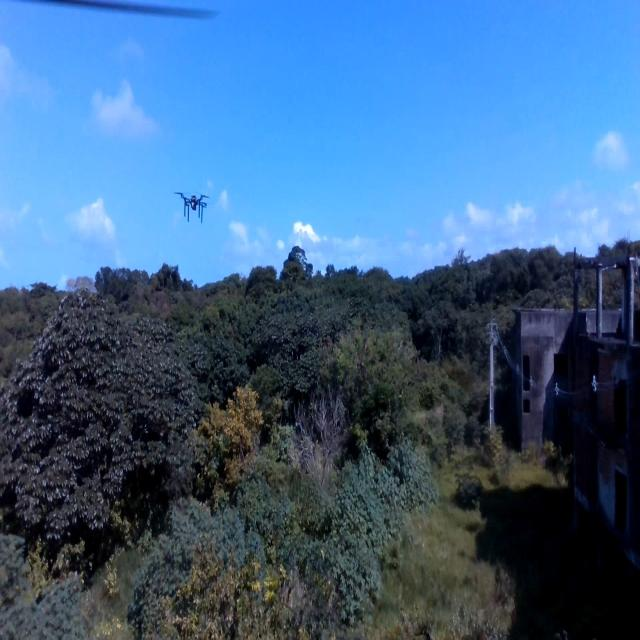-uav-: (170, 182, 218, 234)
